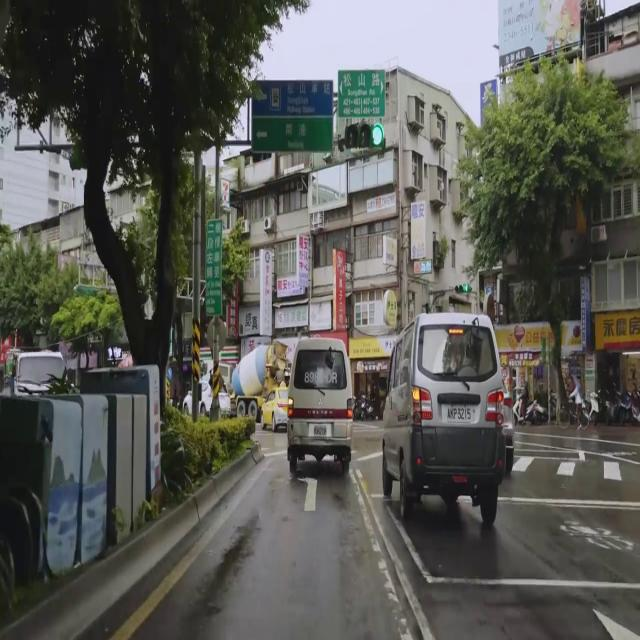green light: (345, 124, 385, 148)
